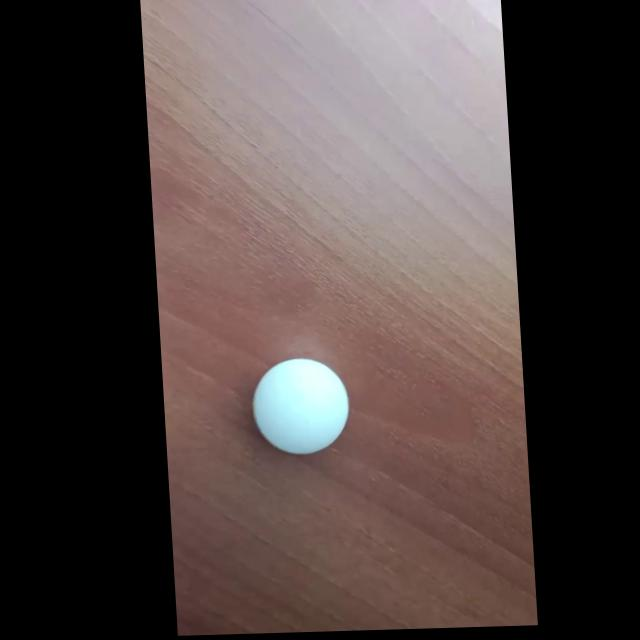white ball: (249, 355, 352, 456)
